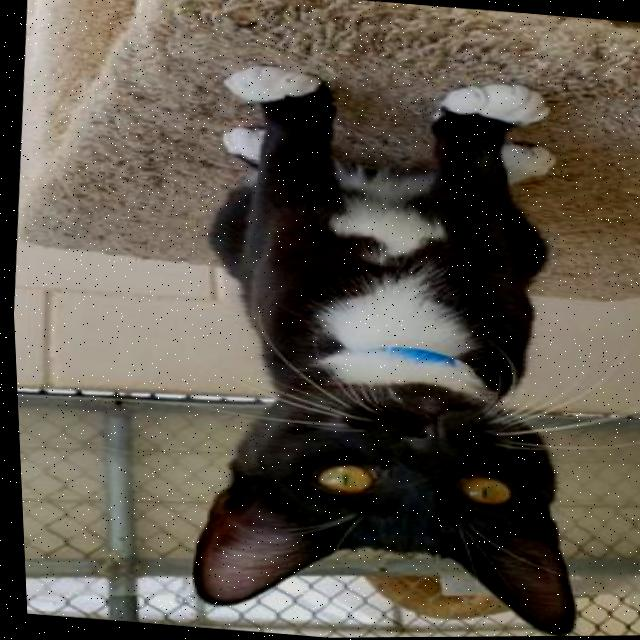Tuxedo: (157, 55, 620, 639)
